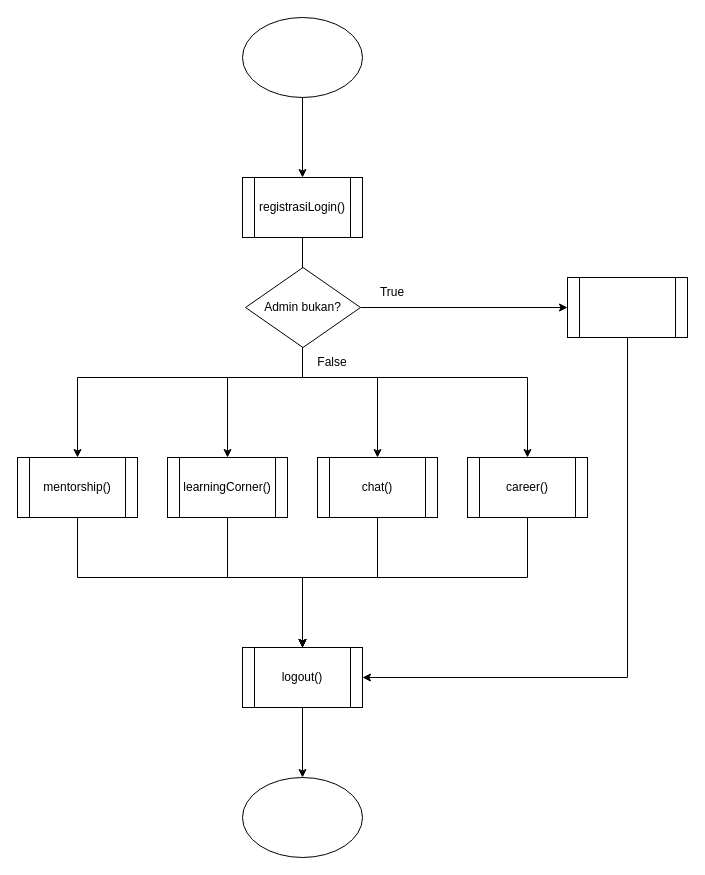
Image size: 705x875. Some labels were removed from this diagram. The shapes that lost their labels are listed below. From the top down, each one's centre as x and y in pixels, then its label:
At point (302, 57): "Start".
At point (627, 307): "admin()".
At point (302, 817): "End".
